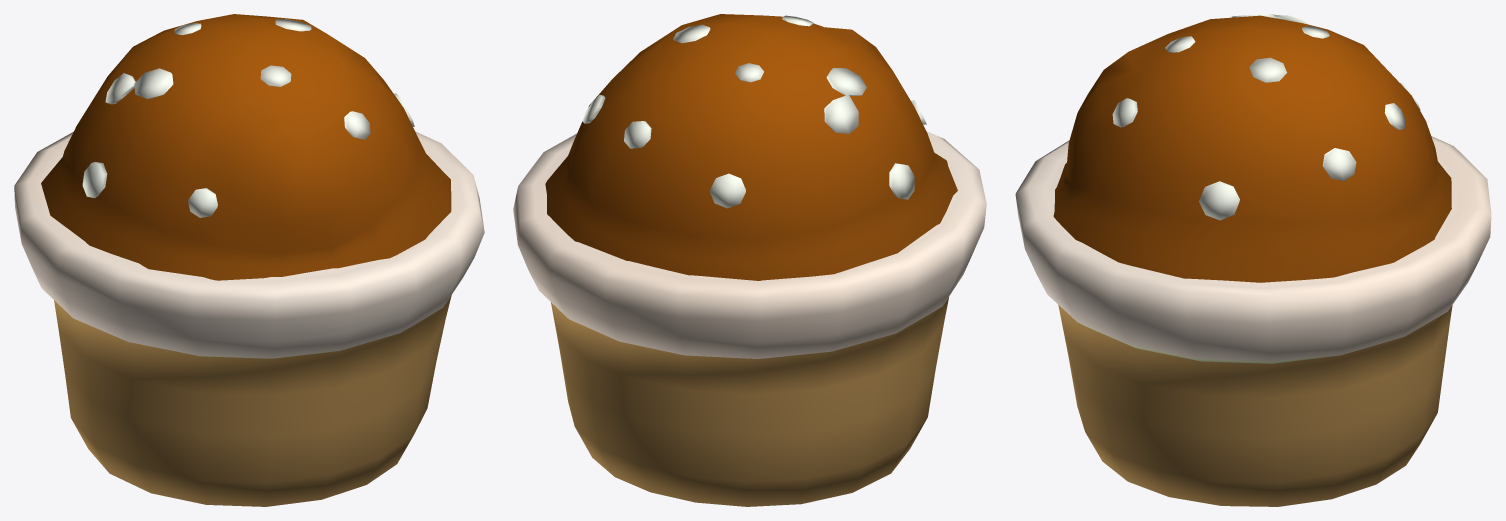
The model's file is IceCream_0001_0016.fbx.
3 views of the same model, side by side, from view 1: azimuth 30°, elevation 25°; view 2: azimuth 150°, elevation 25°; view 3: azimuth 270°, elevation 25° (orthographic).
Parts seen in each view (by area): view 1: Ice_0001_0016; view 2: Ice_0001_0016; view 3: Ice_0001_0016.
Part boxes in pixels (x1,y1,x2,y2): Ice_0001_0016: [14, 14, 484, 506]; Ice_0001_0016: [513, 14, 986, 506]; Ice_0001_0016: [1015, 14, 1491, 506].
Bounding box in the file's own units: 0.0713 × 0.0681 × 0.0723.
1 material, 1 textured.
